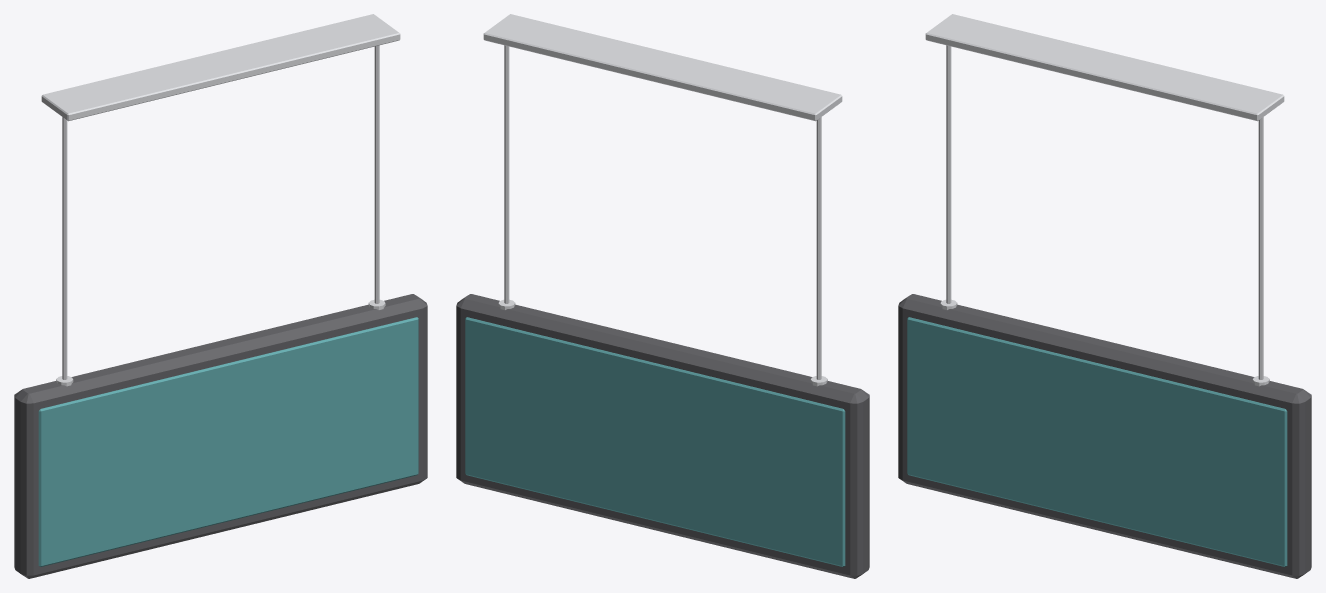
The model's file is fast-food-and-drive-thru-hanging-aisle-sign-a44bb08d__16128.glb.
3 views of the same model, side by side, from view 1: azimuth 30°, elevation 25°; view 2: azimuth 150°, elevation 25°; view 3: azimuth 330°, elevation 25° (orthographic).
Parts seen in each view (by area): view 1: hanging-aisle-sign; view 2: hanging-aisle-sign; view 3: hanging-aisle-sign.
Part boxes in pixels (<box>): hanging-aisle-sign: <box>14,14,427,578</box>; hanging-aisle-sign: <box>456,14,869,578</box>; hanging-aisle-sign: <box>898,14,1311,578</box>.
Size of the model in its own units: 0.78 by 0.854 by 0.09.
